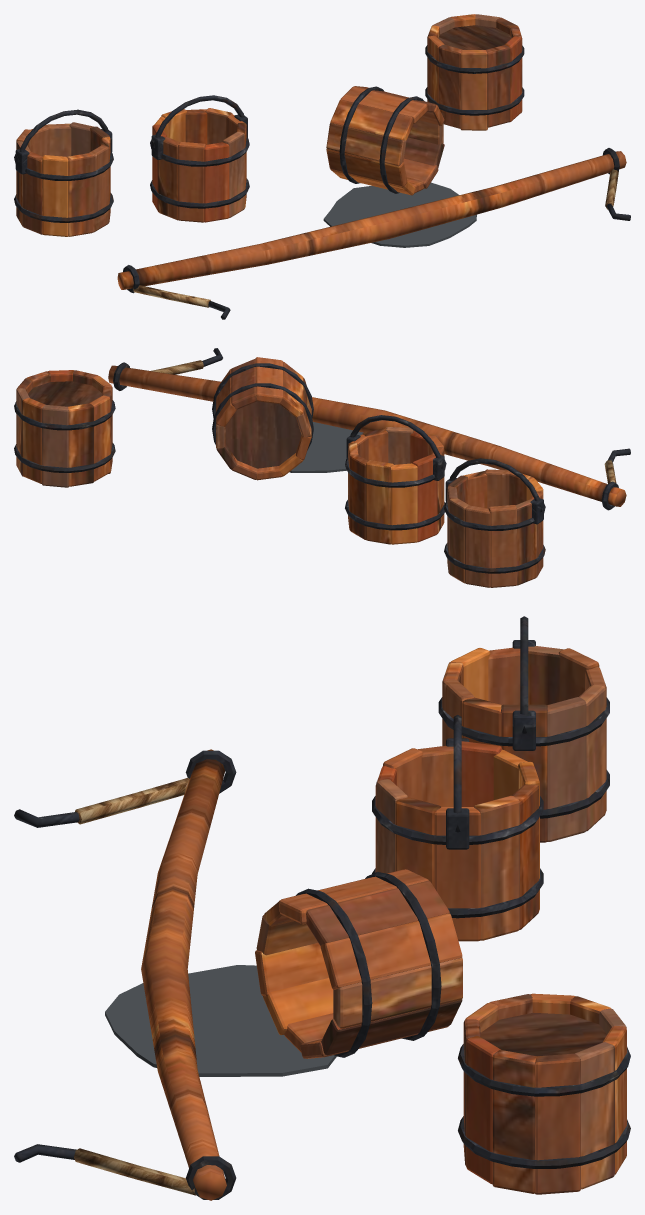
File: mp_bucket_line.glb
3 views of the same model, one above another, from view 1: azimuth 30°, elevation 25°; view 2: azimuth 150°, elevation 25°; view 3: azimuth 270°, elevation 25° (orthographic). The views are drawn at different scales.
Parts seen in each view (by area): view 1: model; view 2: model; view 3: model.
Boxes of the visible parts, x1,y1,x2,y2 form: model: (14,14,630,319); model: (14,348,630,587); model: (14,616,630,1200).
Size of the model in its own units: 1.54 by 0.3111 by 0.9256.
15 materials, 14 textured.
